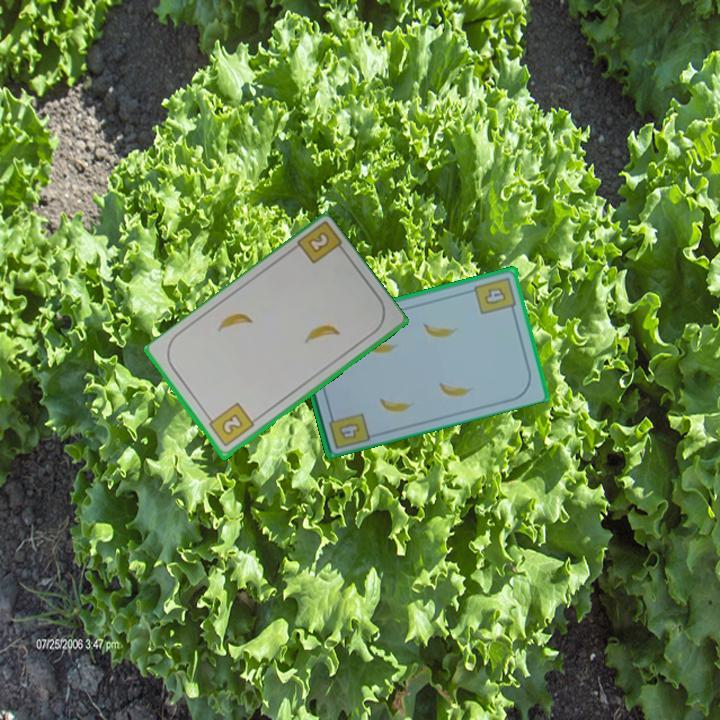2b: (203, 400, 257, 450), (304, 228, 333, 256)
4b: (325, 407, 372, 452), (471, 273, 519, 317)
